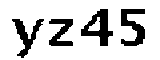4: (77, 7, 115, 50)
5: (114, 5, 147, 50)
y: (9, 13, 44, 57)
z: (47, 17, 74, 50)
